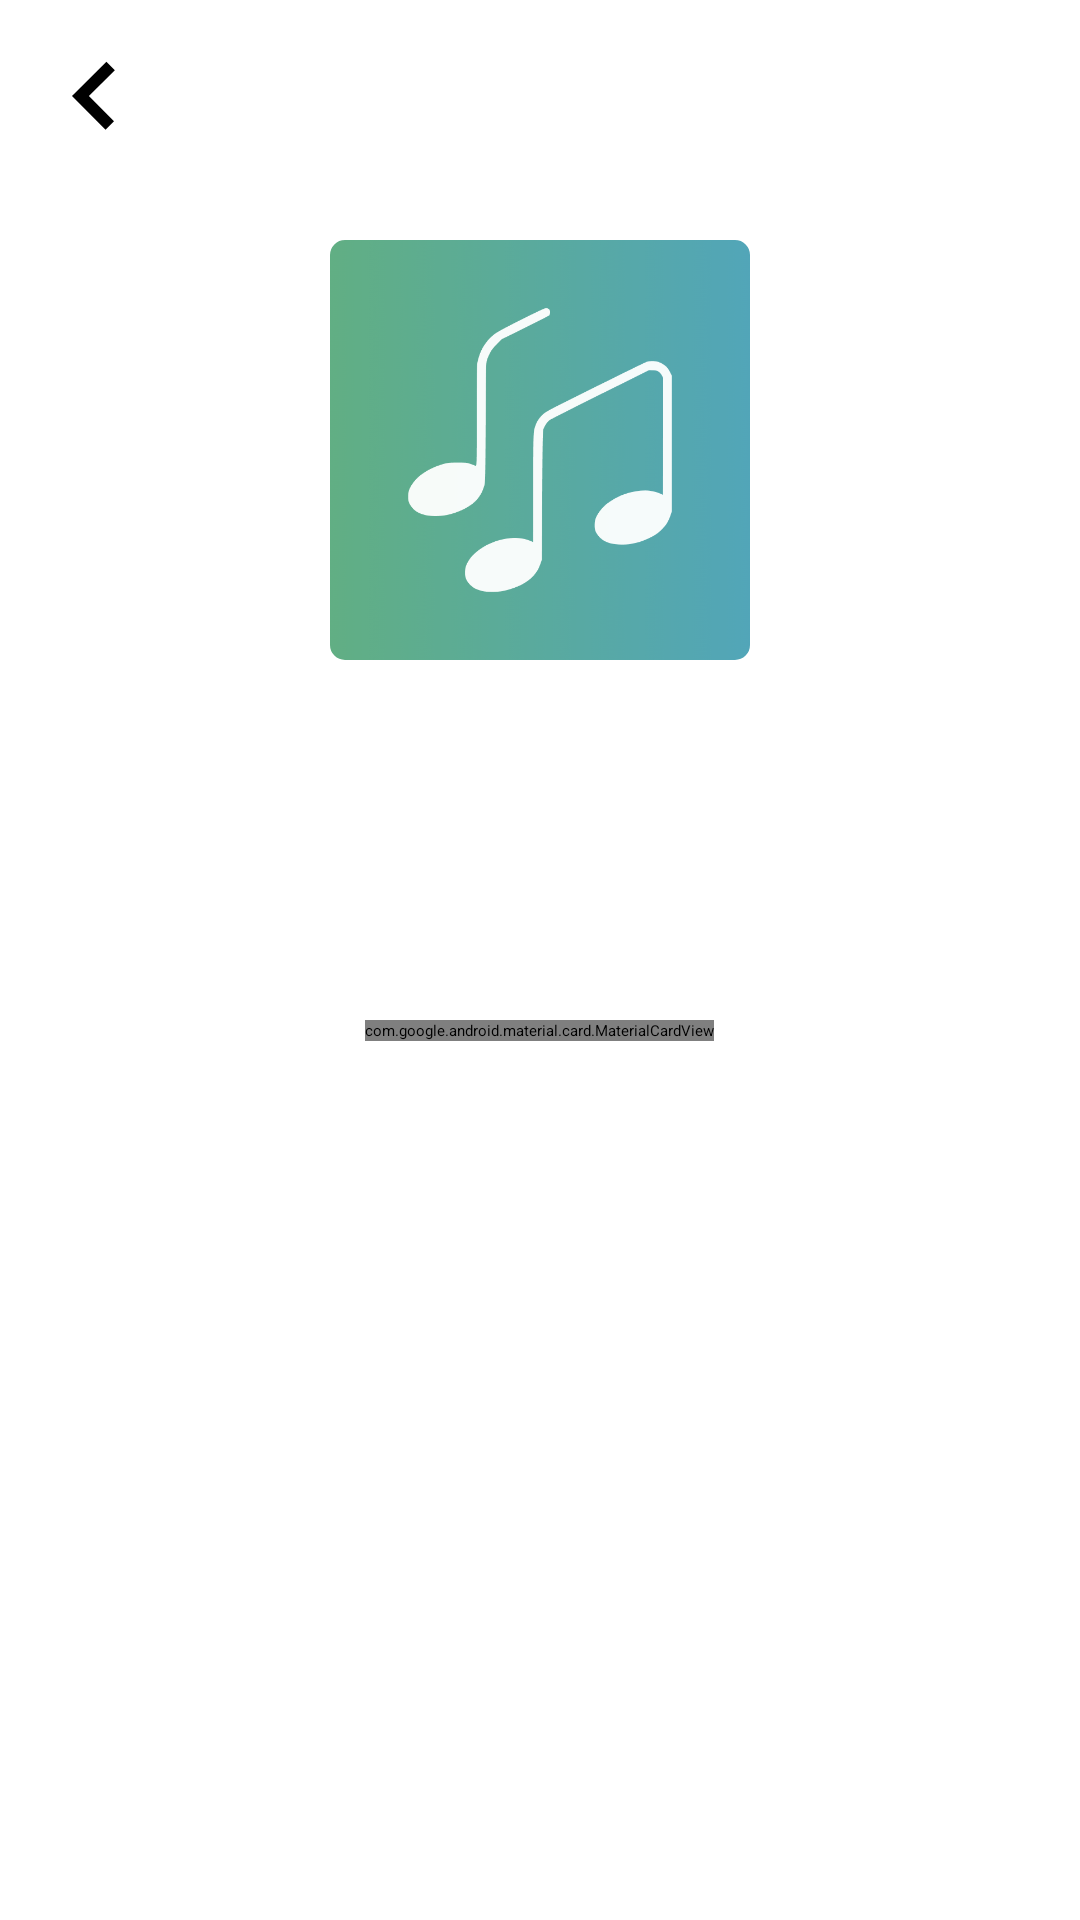

Where icons sit on this 1080 x 1920 app screen, as (x1, y1, x2, y2):
Back: (72, 62, 115, 130)
